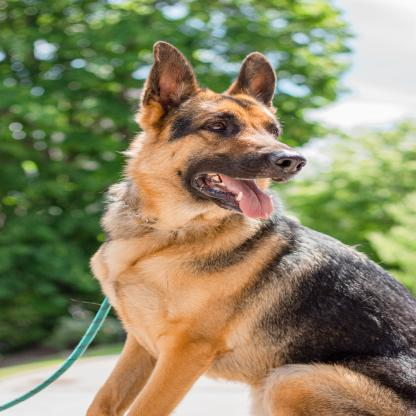dog: (82, 41, 416, 416)
